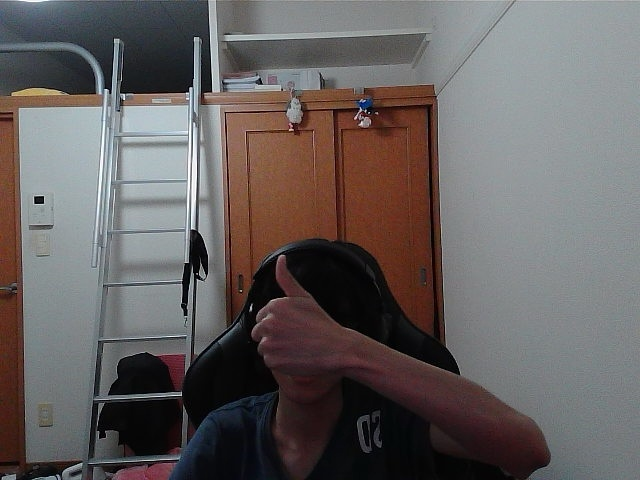thumb_up: (257, 261, 341, 364)
